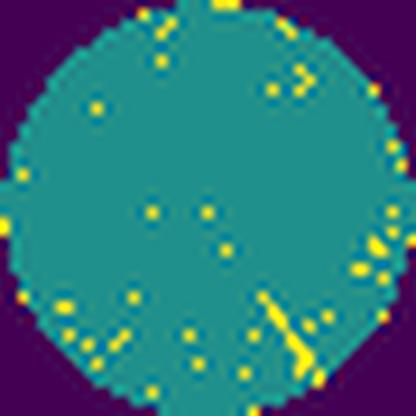Scratch: (244, 280, 320, 388)
